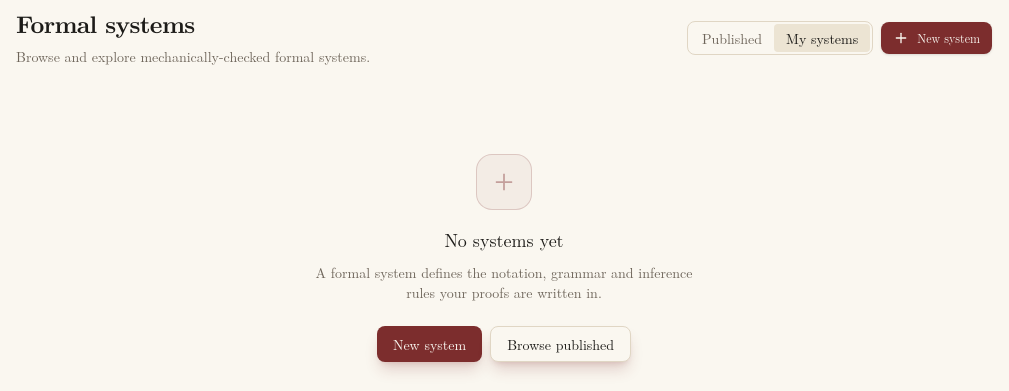
Test: systems list › falls back to the public view when the user logs out of "My systems"
This screenshot has width=1009, height=391.
Owner is signed in → the view toggle is present. Switch to "My systems".
Click the button "My systems" at (822, 38), box [774,24,870,52]
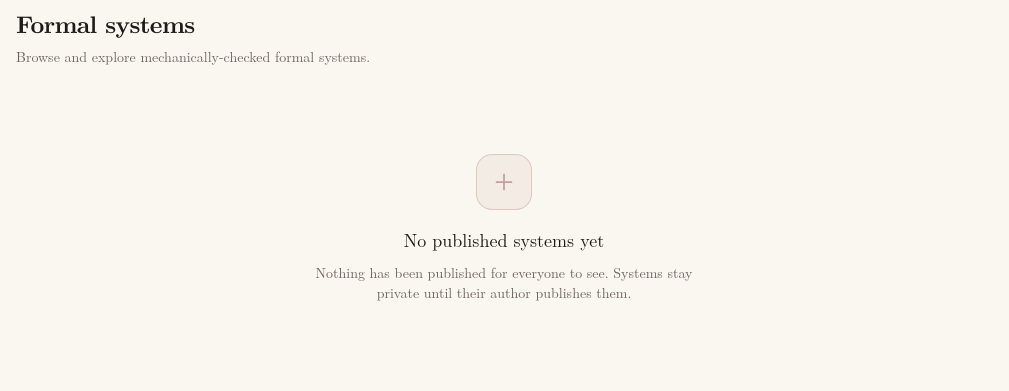
Expected: the button "My systems" is gone
